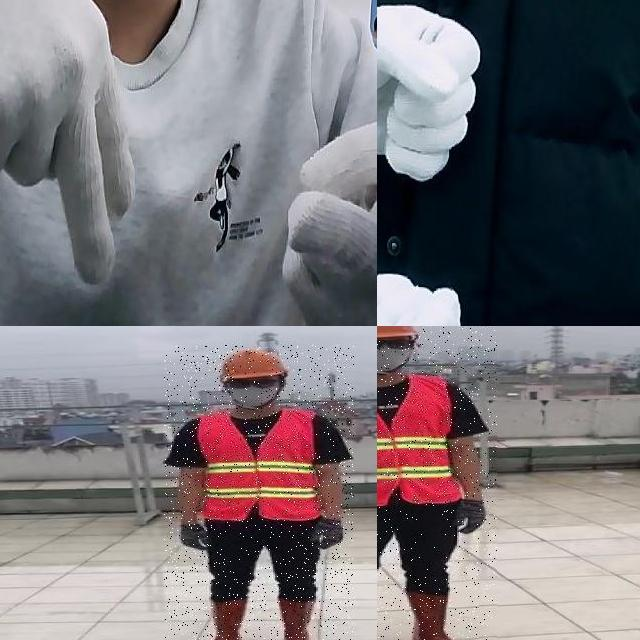BOOTS: (403, 589, 479, 640), (275, 595, 323, 640), (201, 598, 251, 640)
GLASS: (222, 380, 285, 390), (377, 336, 416, 351)
GLOVE: (0, 0, 136, 289), (278, 114, 377, 326), (377, 0, 481, 182), (453, 498, 487, 536), (310, 519, 344, 550), (179, 523, 212, 551)
HELMET: (213, 347, 288, 382)
VEST: (195, 410, 325, 523), (377, 377, 457, 506)
